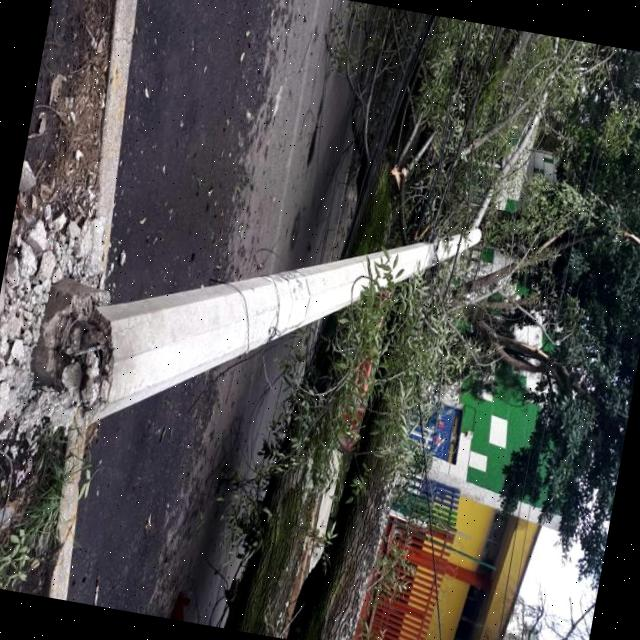Broken Pole: (51, 225, 480, 431)
